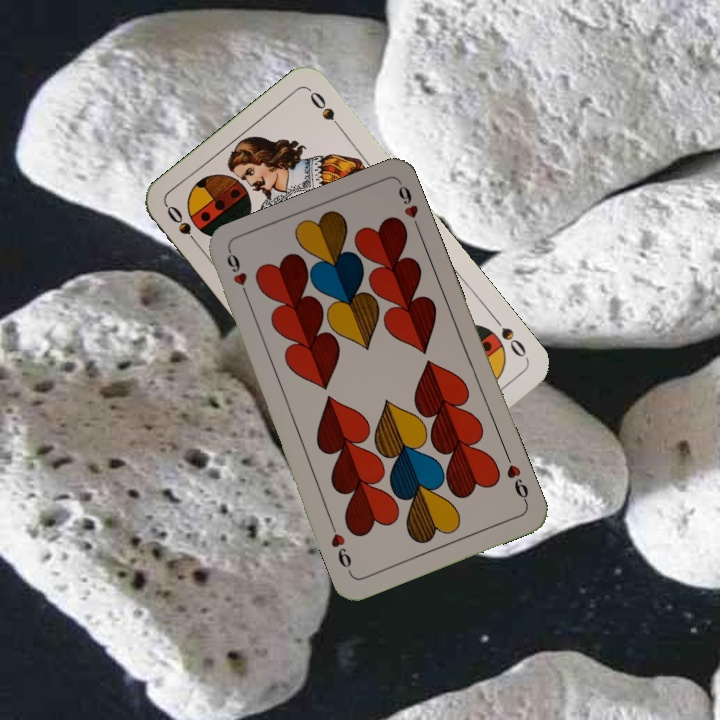H9: (222, 248, 253, 305), (502, 450, 532, 507)
SO: (162, 201, 205, 252), (488, 312, 531, 362)
